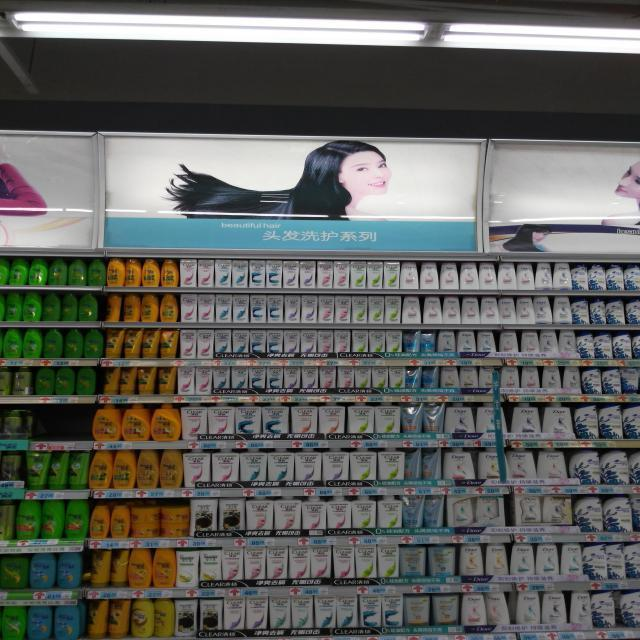empty: (44, 407, 90, 450)
